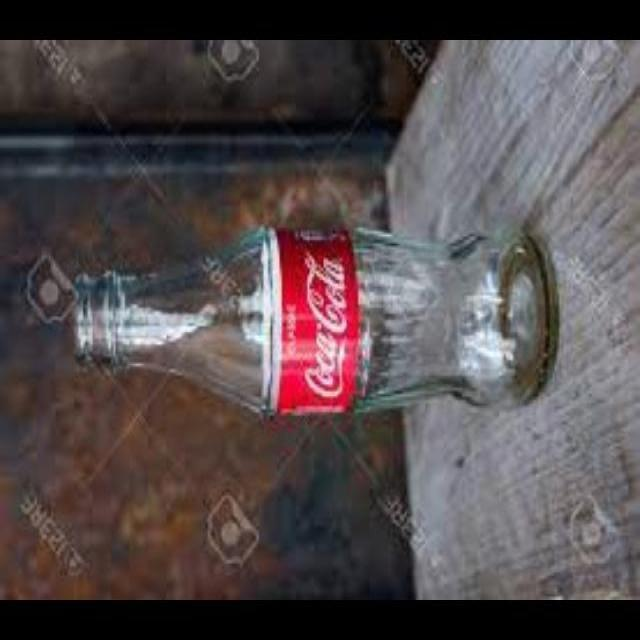Glass: (68, 222, 560, 420)
